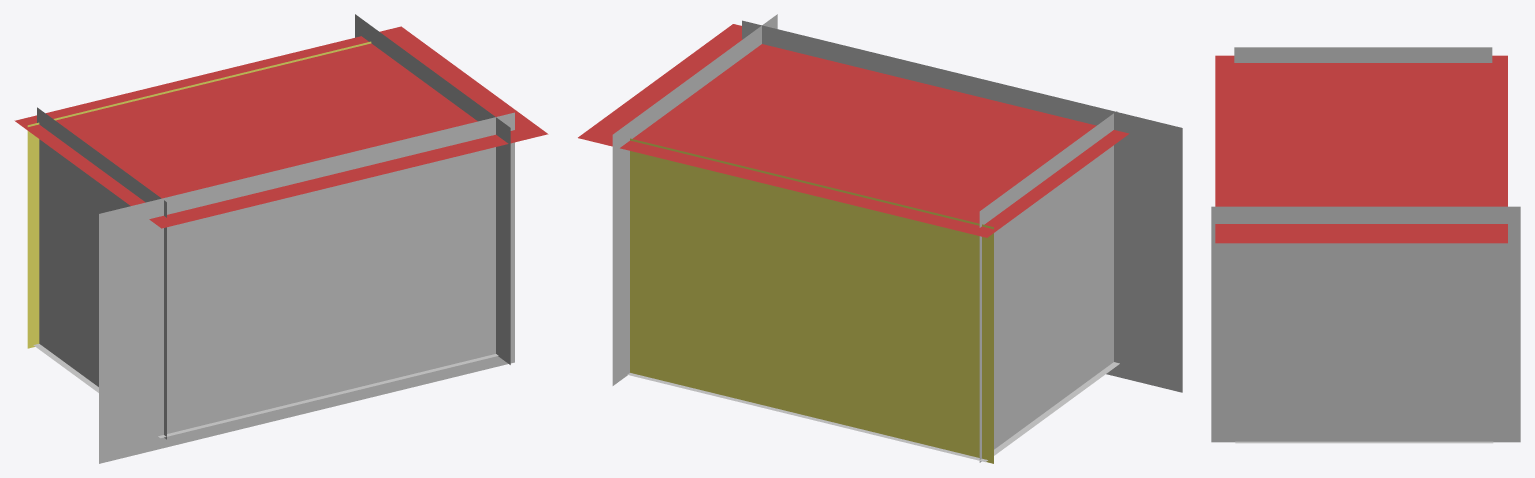
File: restaurant.dae
The picture shows the model from 3 angles, left to right: view 1: azimuth 30°, elevation 25°; view 2: azimuth 150°, elevation 25°; view 3: azimuth 270°, elevation 25°; orthographic projection. The views are drawn at different scales.
Parts seen in each view (by area): view 1: Plane_003; view 2: Plane_003; view 3: Plane_003.
Part boxes in pixels (x1=…): Plane_003: x1=14, y1=14, x2=548, y2=463; Plane_003: x1=578, y1=14, x2=1182, y2=463; Plane_003: x1=1211, y1=47, x2=1520, y2=443.
Size of the model in its own units: 56.11 by 34.63 by 30.68.
